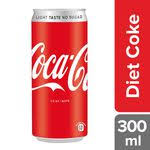coke-can: (27, 8, 90, 138)
